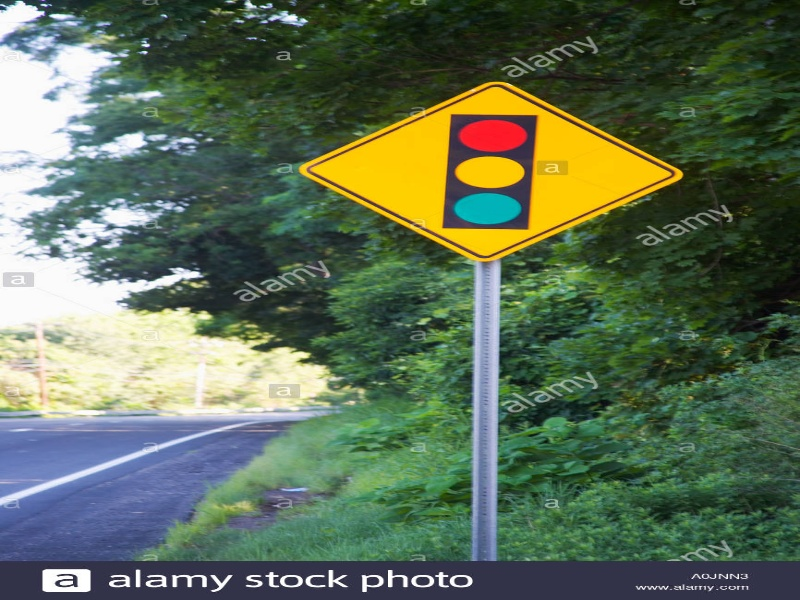traffic signal sign: (297, 80, 688, 267)
